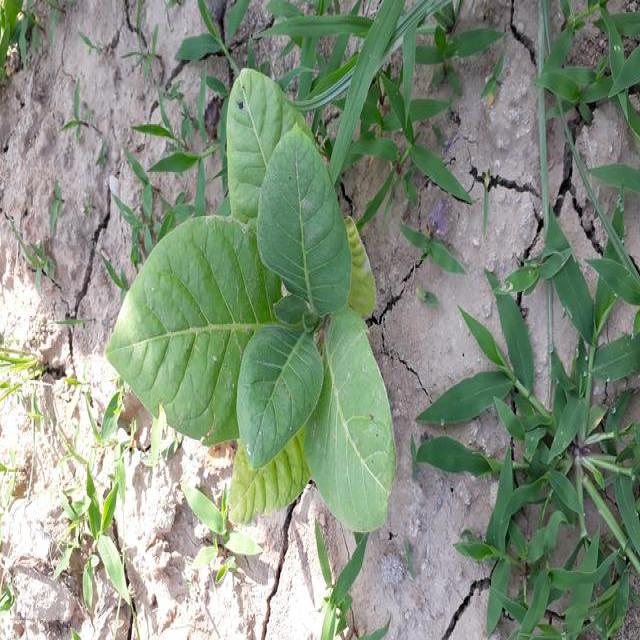crop: (97, 69, 391, 528)
